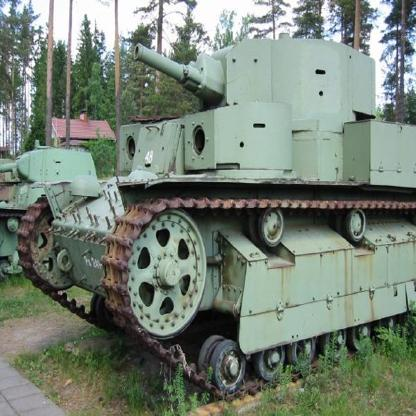Tank: (17, 37, 416, 401)
